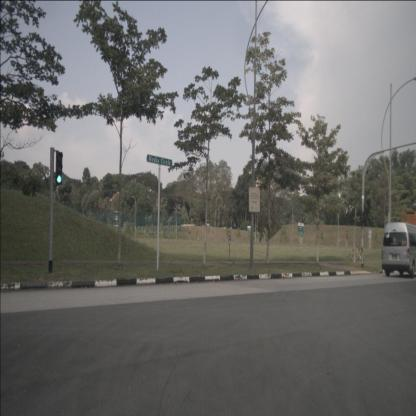vehicle-bicycle: (347, 244, 364, 265)
vehicle-car: (381, 221, 415, 279)
